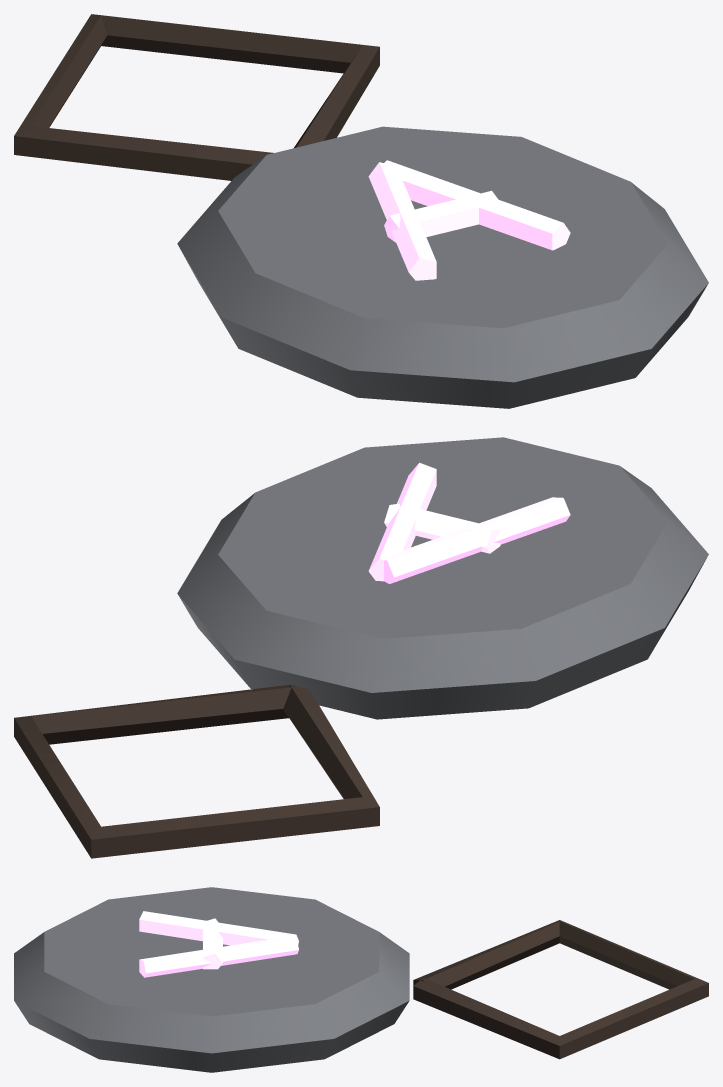
Rendered from tc_runic_focus.glb.
The picture shows the model from 3 angles, top to bottom: view 1: azimuth 30°, elevation 25°; view 2: azimuth 150°, elevation 25°; view 3: azimuth 270°, elevation 25°; orthographic projection. The views are drawn at different scales.
Parts seen in each view (by area): view 1: tc_runic_focus; view 2: tc_runic_focus; view 3: tc_runic_focus.
Part boxes in pixels (x1,y1,x2,y2): tc_runic_focus: (14, 14, 708, 408); tc_runic_focus: (14, 437, 708, 858); tc_runic_focus: (14, 887, 708, 1072).
Bounding box in the file's own units: 0.052 × 0.0105 × 0.0999.
